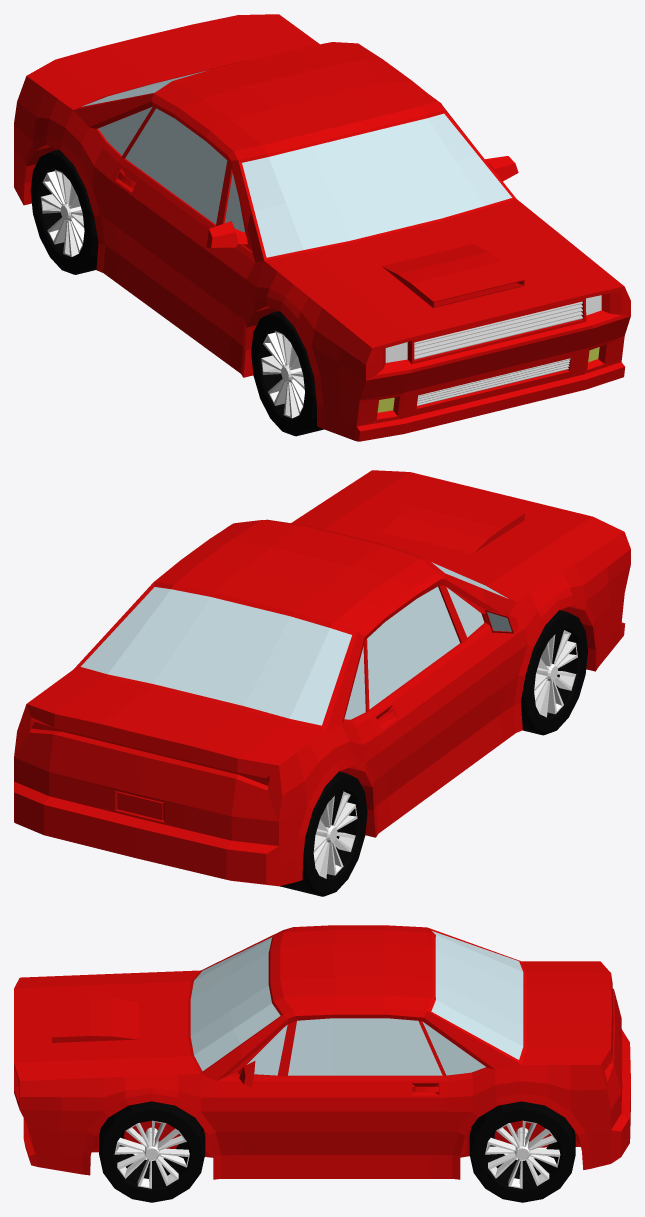
Rendered from car.fbx.
3 views of the same model, one above another, from view 1: azimuth 30°, elevation 25°; view 2: azimuth 150°, elevation 25°; view 3: azimuth 270°, elevation 25° (orthographic). The views are drawn at different scales.
Parts seen in each view (by area): view 1: car, front_left_wheel002, front_left_wheel001, upper_grill, lower_grill; view 2: car, front_left_wheel002, front_left_wheel001; view 3: car, front_left_wheel003, front_left_wheel.
Boxes of the visible parts, x1,y1,x2,y2 form: car: (14, 14, 630, 441); front_left_wheel002: (30, 149, 98, 274); front_left_wheel001: (251, 311, 323, 436); upper_grill: (414, 301, 583, 359); lower_grill: (417, 358, 570, 405); car: (14, 470, 630, 886); front_left_wheel002: (280, 771, 367, 896); front_left_wheel001: (521, 610, 587, 735); car: (14, 925, 630, 1179); front_left_wheel003: (469, 1101, 575, 1202); front_left_wheel: (99, 1101, 205, 1202).
Bounding box in the file's own units: 430 × 295 × 890.
Materials: 3 (1 with a texture image).
